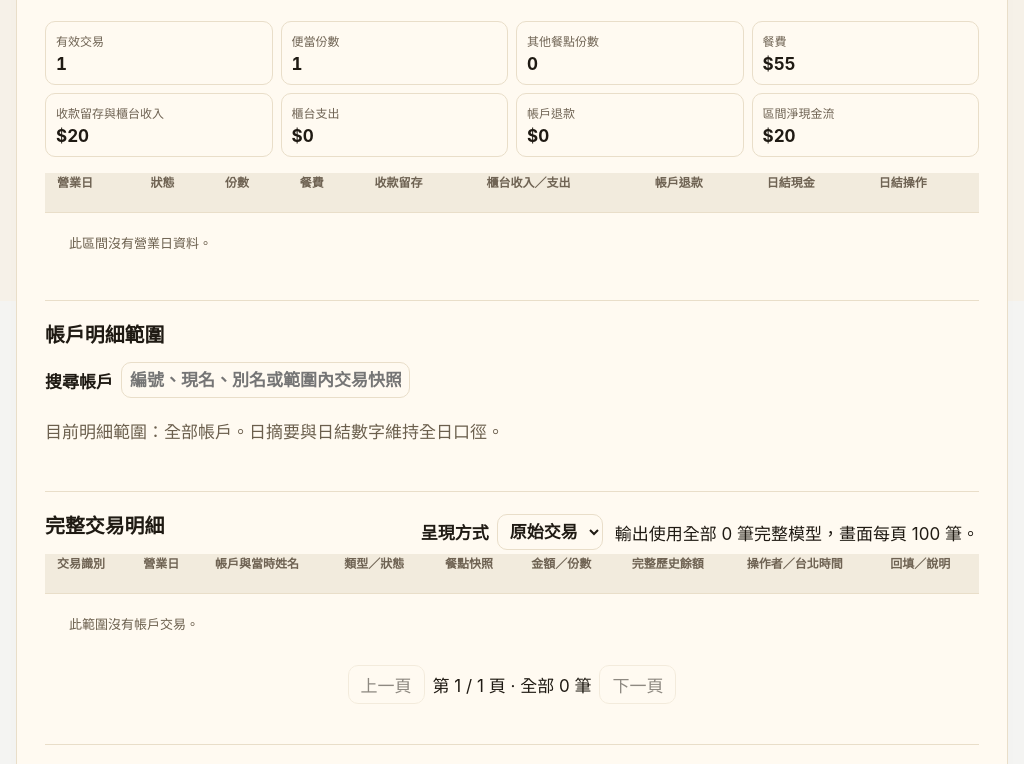
Test: CloudReportPage › uses EmptyState for an empty report, no matching accounts, and no access events
(page scrolled)
Expected: the text "此區間沒有營業日資料。" is shown, [69,235,212,251]
Expected: the text "此範圍沒有帳戶交易。" is shown, [69,616,199,632]
Type "不存在" into the field labelled "搜尋帳戶".
click(266, 380); type("不存在")  # box [121,362,410,398]
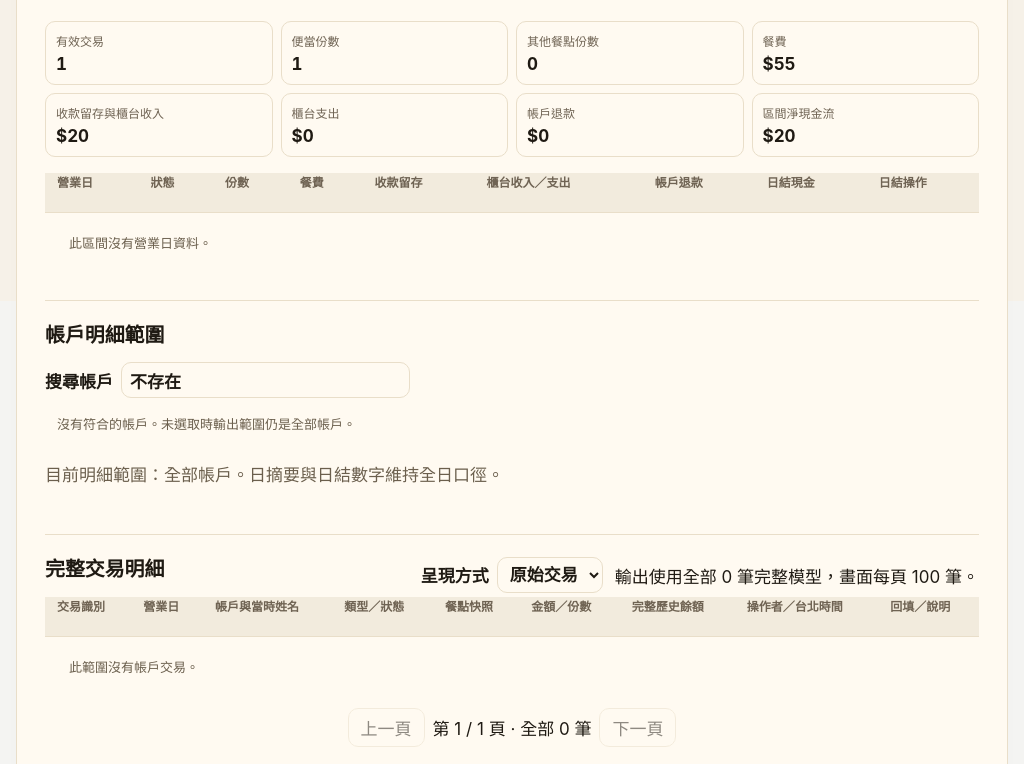
Expected: the text "沒有符合的帳戶。未選取時輸出範圍仍是全部帳戶。" is shown, [57,416,356,432]
